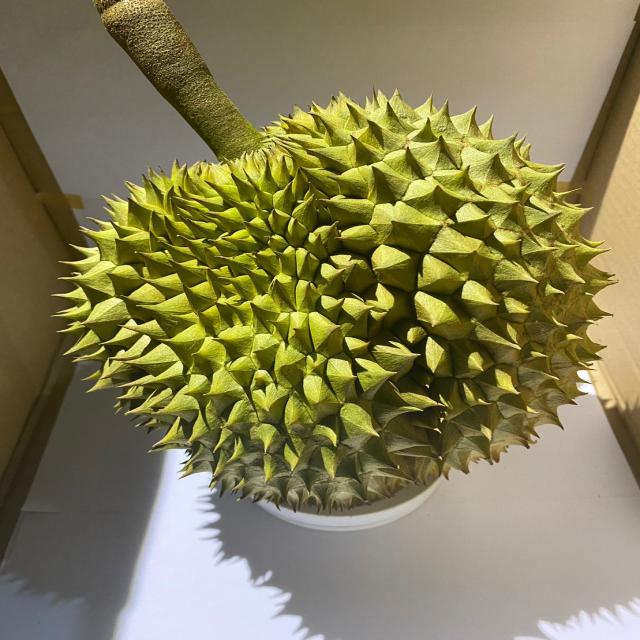immature: (49, 89, 617, 506)
